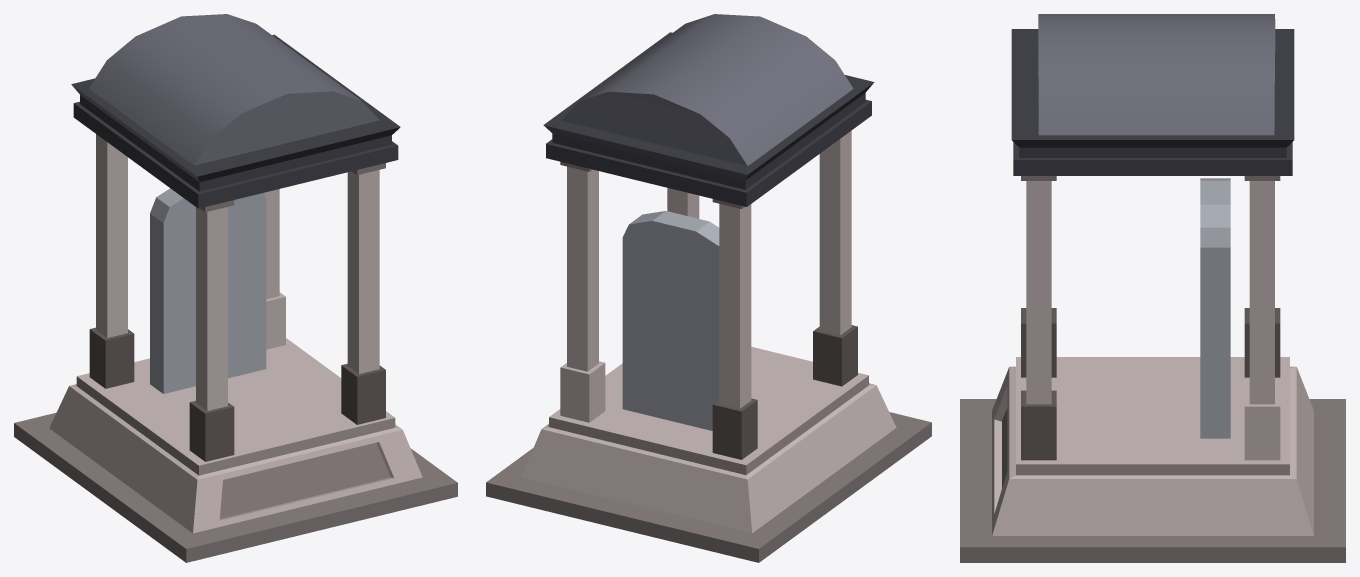
File: HWN20_Grave_24.glb
The picture shows the model from 3 angles, left to right: view 1: azimuth 30°, elevation 25°; view 2: azimuth 150°, elevation 25°; view 3: azimuth 270°, elevation 25°; orthographic projection. The views are drawn at different scales.
Parts seen in each view (by area): view 1: HWN20_Grave_24; view 2: HWN20_Grave_24; view 3: HWN20_Grave_24.
Part boxes in pixels (x1,y1,x2,y2): HWN20_Grave_24: (14,14,457,562); HWN20_Grave_24: (486,14,931,562); HWN20_Grave_24: (960,14,1345,562).
Size of what is drawn, in the model's own units: 1.22 by 1.76 by 1.34.
Materials: 1 (1 with a texture image).
